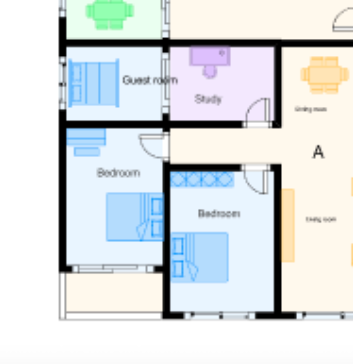door: (237, 152, 273, 198), (135, 124, 175, 163), (242, 90, 273, 132)
window: (176, 300, 260, 326), (295, 304, 350, 329), (51, 53, 69, 109)
